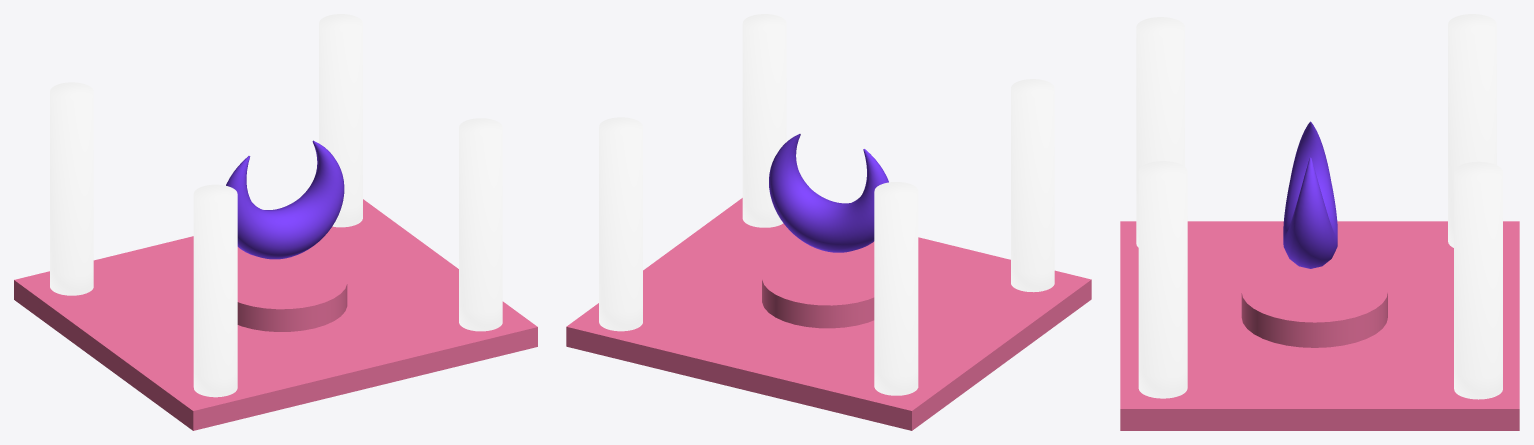
File: LightingTest.glb
The picture shows the model from 3 angles, left to right: view 1: azimuth 30°, elevation 25°; view 2: azimuth 150°, elevation 25°; view 3: azimuth 270°, elevation 25°; orthographic projection. The views are drawn at different scales.
Visible parts, largest first — view 1: Cylinder.004, Light03, Light04, Light02, Light01, Moon; view 2: Cylinder.004, Light04, Light01, Light03, Light02, Moon; view 3: Cylinder.004, Light02, Light01, Light04, Light03, Moon.
Boxes of the visible parts, box(x1,y1,x2,y2) form: Cylinder.004: box(14, 199, 537, 430); Light03: box(193, 184, 237, 397); Light04: box(50, 82, 93, 295); Light02: box(459, 118, 502, 331); Light01: box(319, 14, 362, 227); Moon: box(226, 140, 344, 259); Cylinder.004: box(566, 198, 1091, 430); Light04: box(874, 182, 918, 395); Light01: box(599, 117, 642, 331); Light03: box(1011, 79, 1054, 292); Light02: box(742, 14, 786, 227); Moon: box(769, 134, 888, 252); Cylinder.004: box(1120, 221, 1519, 430); Light02: box(1138, 161, 1187, 398); Light01: box(1454, 161, 1502, 399); Light04: box(1448, 14, 1496, 247); Light03: box(1136, 17, 1184, 247); Moon: box(1283, 121, 1337, 268).
Size of the model in its own units: 9.08 by 5.4 by 8.17.
